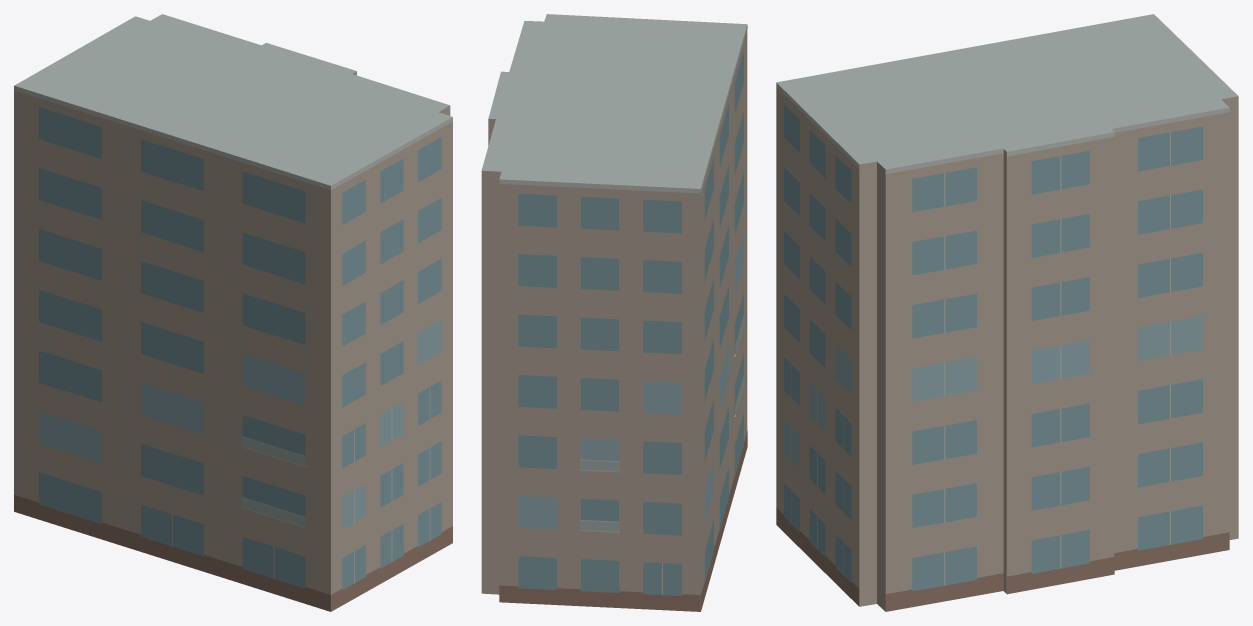
The model's file is survey-upis-32736624.glb.
3 renders of one model, left to right at view 1: azimuth 30°, elevation 25°; view 2: azimuth 150°, elevation 25°; view 3: azimuth 270°, elevation 25°, orthographic. The views are drawn at different scales.
Visible parts, largest first — view 1: survey-upis-32736624.tmp; view 2: survey-upis-32736624.tmp; view 3: survey-upis-32736624.tmp.
Part boxes in pixels (left/top/right/bottom): survey-upis-32736624.tmp: left=14, top=14, right=452, bottom=611; survey-upis-32736624.tmp: left=481, top=14, right=747, bottom=611; survey-upis-32736624.tmp: left=776, top=14, right=1238, bottom=611.
Size of the model in its own units: 17.43 by 23.1 by 21.9.
